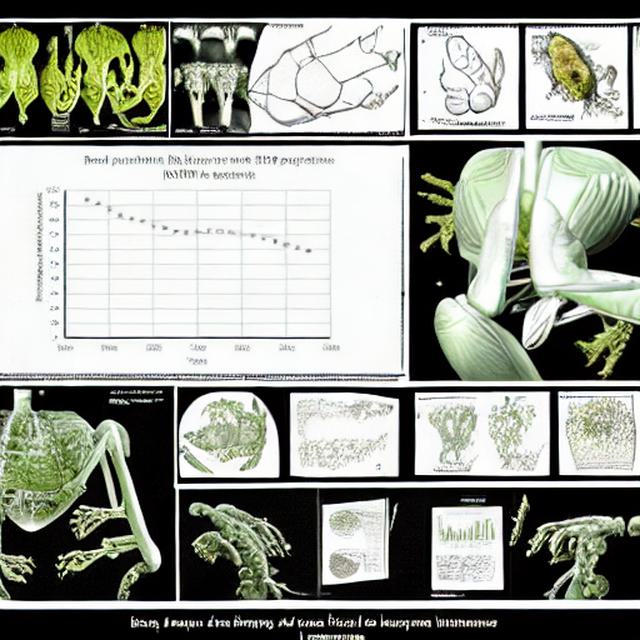Graph: (31, 148, 347, 371), (433, 508, 498, 553)
